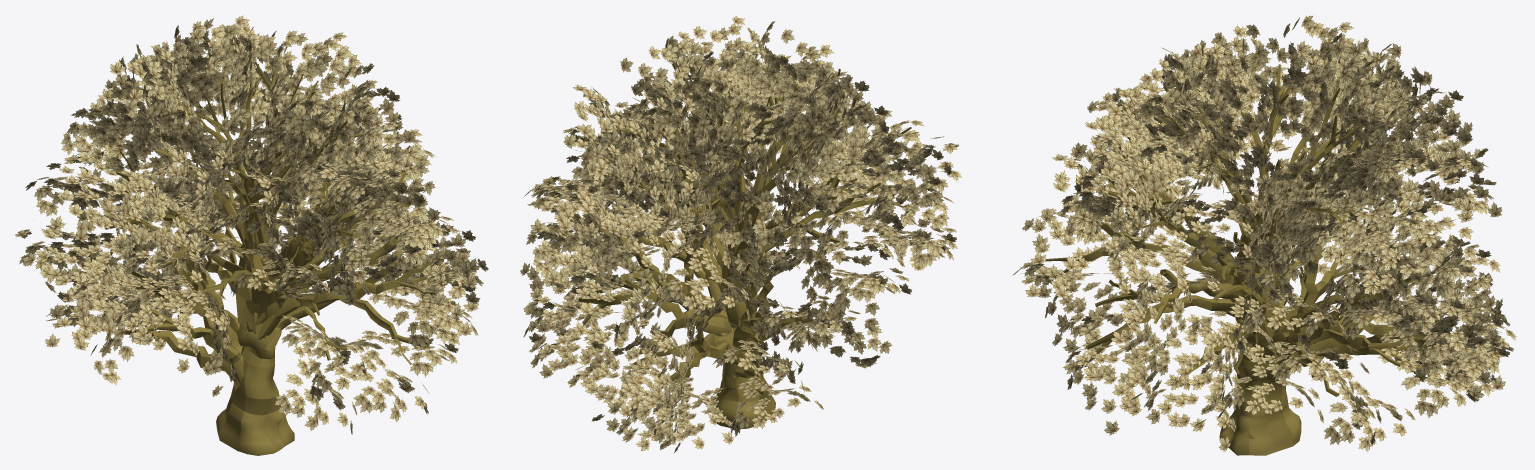
File: BigOak.fbx
3 views of the same model, side by side, from view 1: azimuth 30°, elevation 25°; view 2: azimuth 150°, elevation 25°; view 3: azimuth 270°, elevation 25° (orthographic). The views are drawn at different scales.
Visible parts, largest first — view 1: BigOak_Leaves, BigOak_Trunk; view 2: BigOak_Leaves, BigOak_Trunk; view 3: BigOak_Leaves, BigOak_Trunk.
Boxes of the visible parts, x1,y1,x2,y2 form: BigOak_Leaves: (15,15,488,434); BigOak_Trunk: (104,62,448,455); BigOak_Leaves: (520,16,961,452); BigOak_Trunk: (573,49,918,428); BigOak_Leaves: (1012,15,1516,451); BigOak_Trunk: (1045,64,1441,455).
Bounding box in the file's own units: 20.86 × 18.94 × 21.56.
